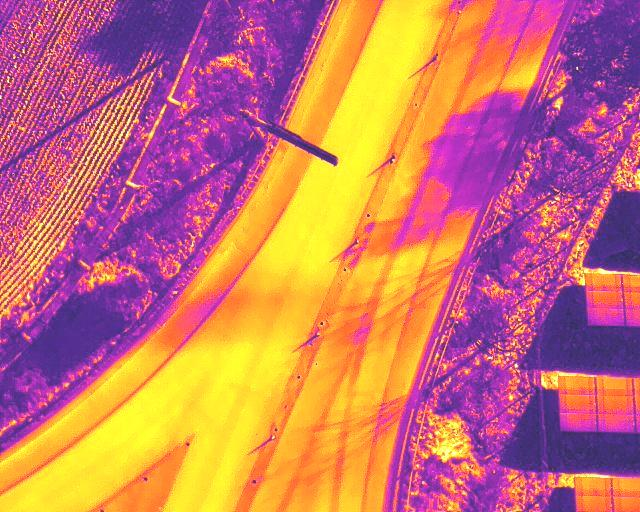No-Anomaly: (594, 377, 635, 396), (558, 394, 596, 413), (598, 396, 636, 415), (576, 477, 612, 497), (558, 375, 595, 394), (585, 274, 621, 292), (589, 309, 626, 326), (586, 292, 623, 309), (598, 415, 636, 431), (560, 415, 598, 431), (576, 496, 613, 511)
